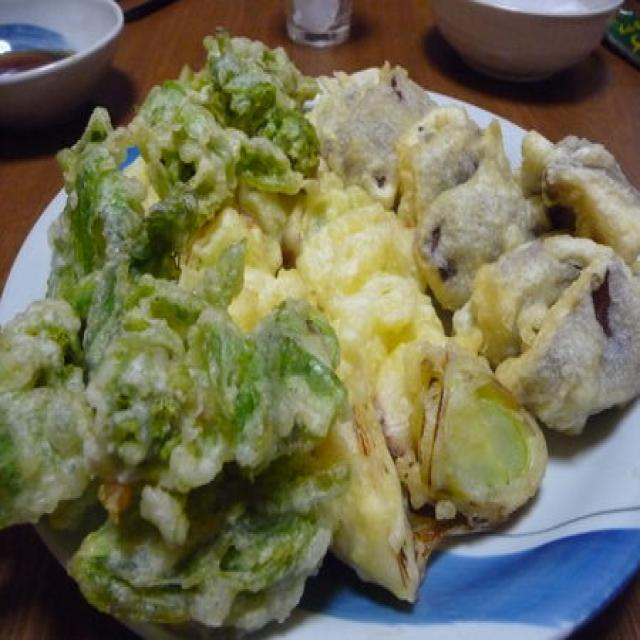蔬菜料理: (0, 32, 640, 621)
